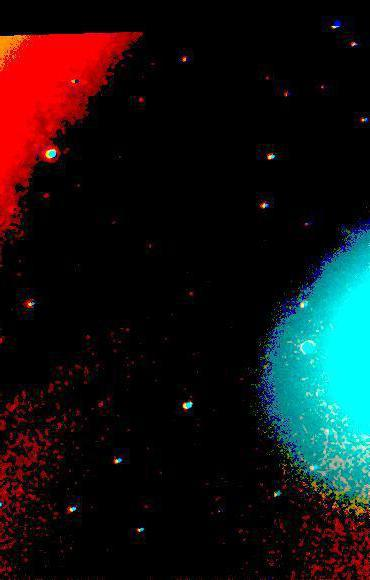star: (33, 111, 63, 141)
